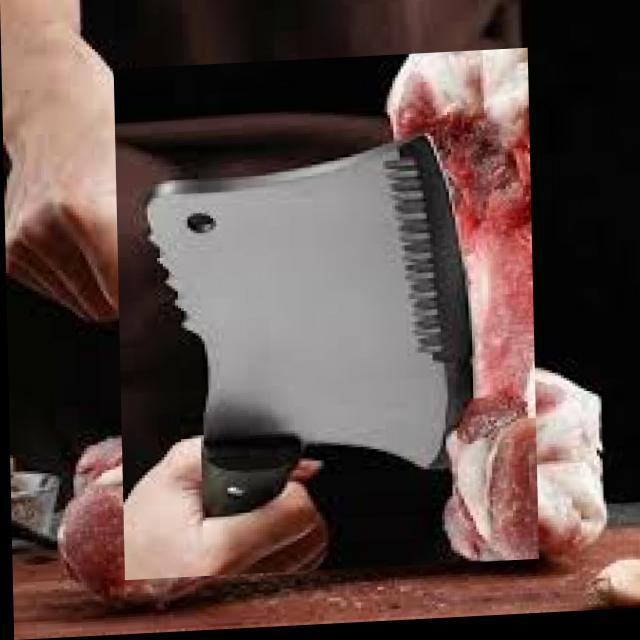knife: (144, 127, 473, 521)
